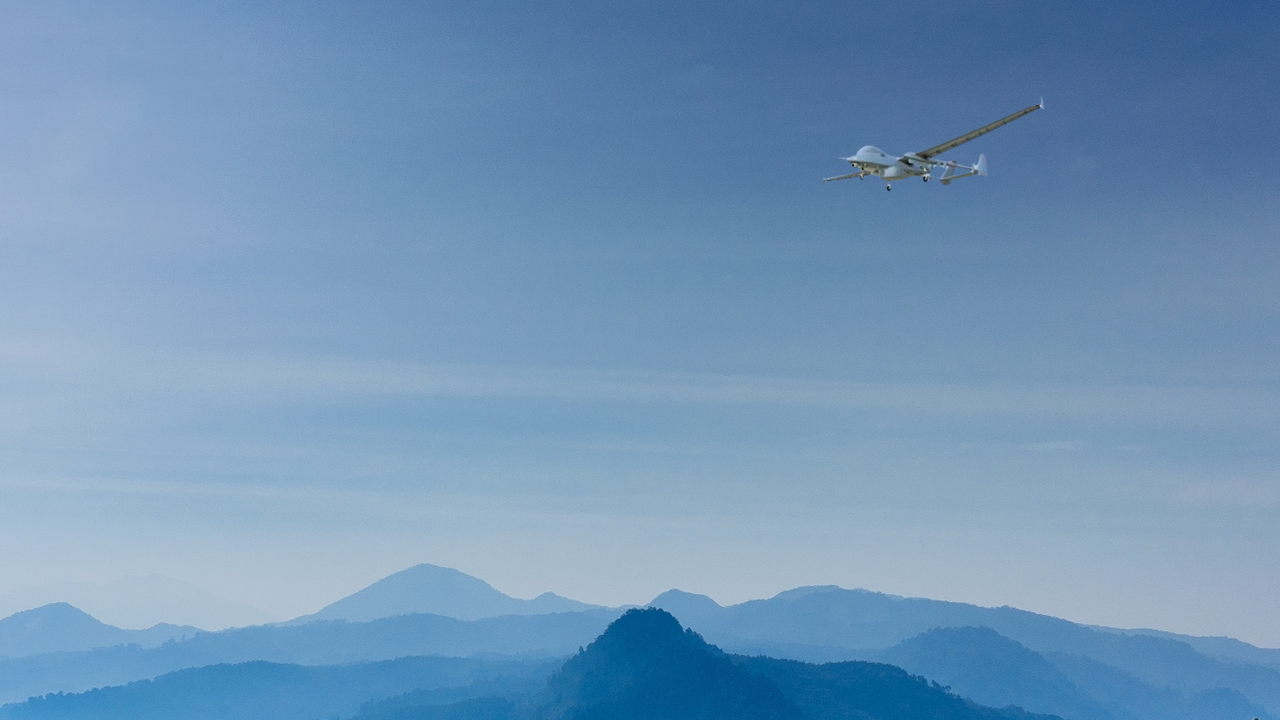military drone: (822, 96, 1044, 191)
